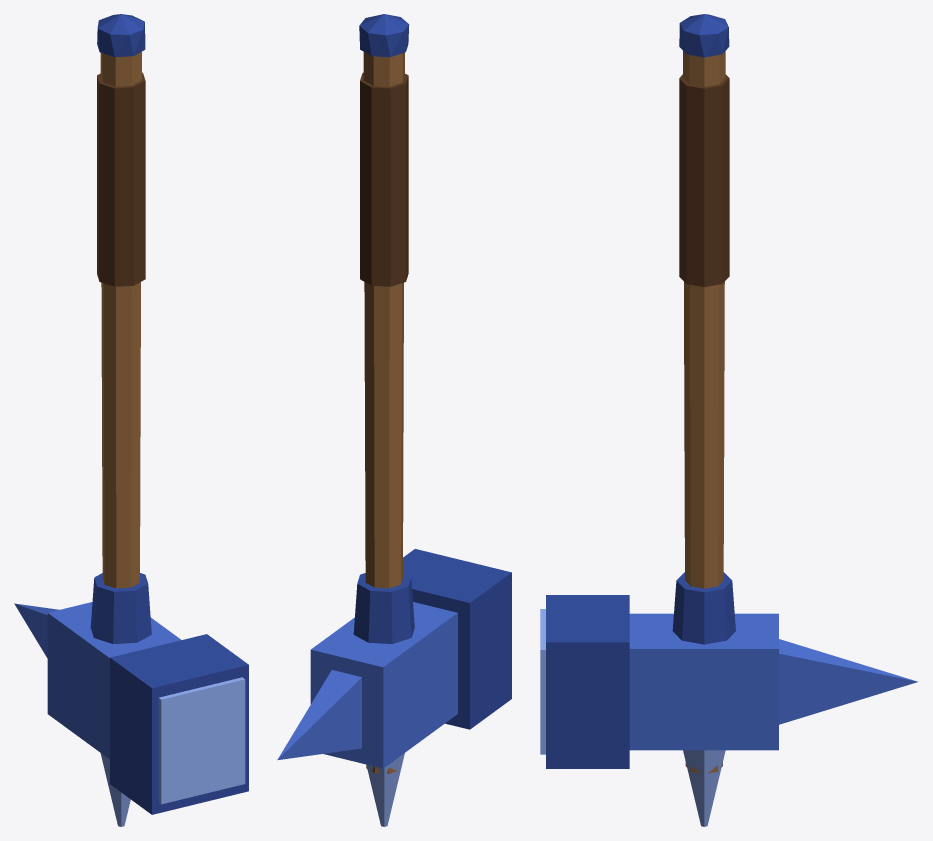
The model's file is held_mithril_warhammer.glb.
3 renders of one model, left to right at view 1: azimuth 30°, elevation 25°; view 2: azimuth 150°, elevation 25°; view 3: azimuth 270°, elevation 25°, orthographic.
Visible parts, largest first — view 1: held_mithril_warhammer; view 2: held_mithril_warhammer; view 3: held_mithril_warhammer.
Part boxes in pixels (<box>): held_mithril_warhammer: <box>14,14,248,826</box>; held_mithril_warhammer: <box>277,14,511,826</box>; held_mithril_warhammer: <box>540,14,917,826</box>.
Size of the model in its own units: 0.12 by 0.961 by 0.406.
